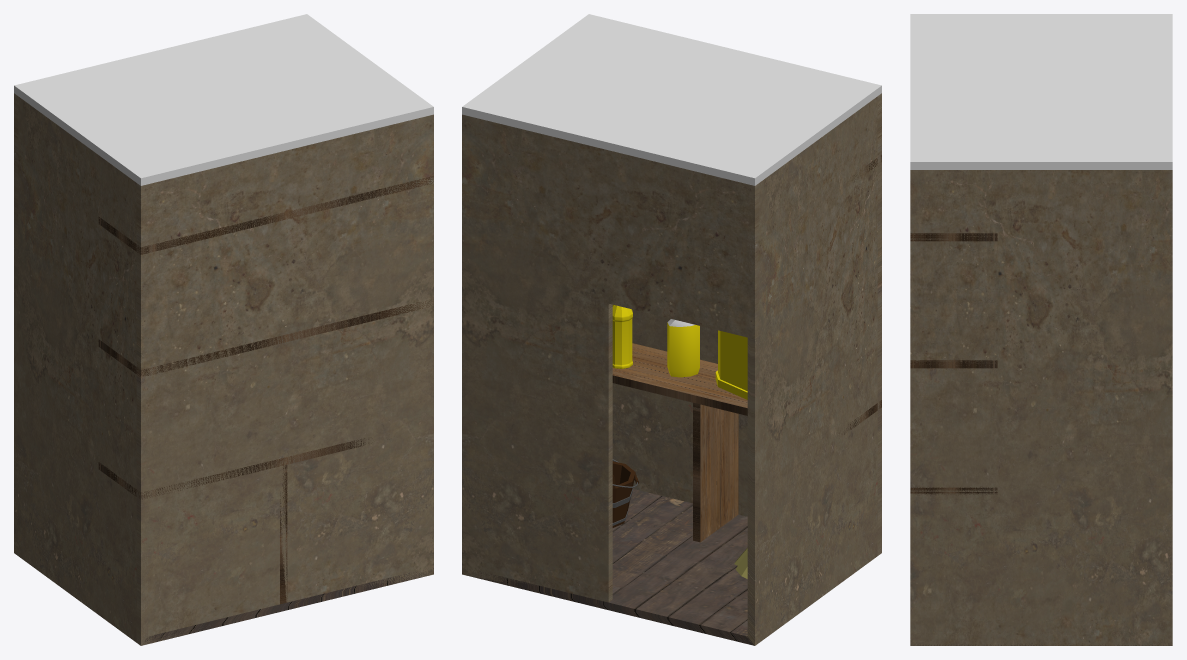
Rendered from closet.glb.
3 views of the same model, side by side, from view 1: azimuth 30°, elevation 25°; view 2: azimuth 150°, elevation 25°; view 3: azimuth 270°, elevation 25° (orthographic). The views are drawn at different scales.
Visible parts, largest first — view 1: Plane, Plane.002, Ceiling, Plane.001; view 2: Plane, Plane.002, Ceiling, Plane.001, Chemical_Storage_2, pchitpchit, Chemical_Storage_1, Bucket; view 3: Plane, Ceiling, Plane.001.
Boxes of the visible parts, box(x1,y1,x2,y2) form: Plane: box(14, 93, 433, 645); Plane.002: box(14, 94, 433, 645); Ceiling: box(14, 14, 433, 185); Plane.001: box(98, 176, 433, 604); Plane: box(462, 93, 881, 602); Plane.002: box(462, 96, 881, 645); Ceiling: box(462, 14, 881, 185); Plane.001: box(612, 154, 881, 542); Chemical_Storage_2: box(715, 330, 747, 399); pchitpchit: box(667, 319, 699, 377); Chemical_Storage_1: box(612, 304, 632, 368); Bucket: box(612, 459, 638, 527); Plane: box(910, 170, 1172, 645); Ceiling: box(910, 14, 1172, 169); Plane.001: box(910, 233, 997, 494).
Bounding box in the file's own units: 2 × 3.07 × 1.5.
23 materials, 3 textured.
